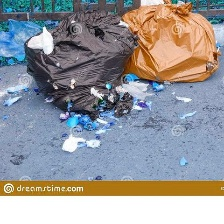plastic_bag: (18, 4, 141, 125), (118, 0, 222, 85), (0, 14, 45, 62)
